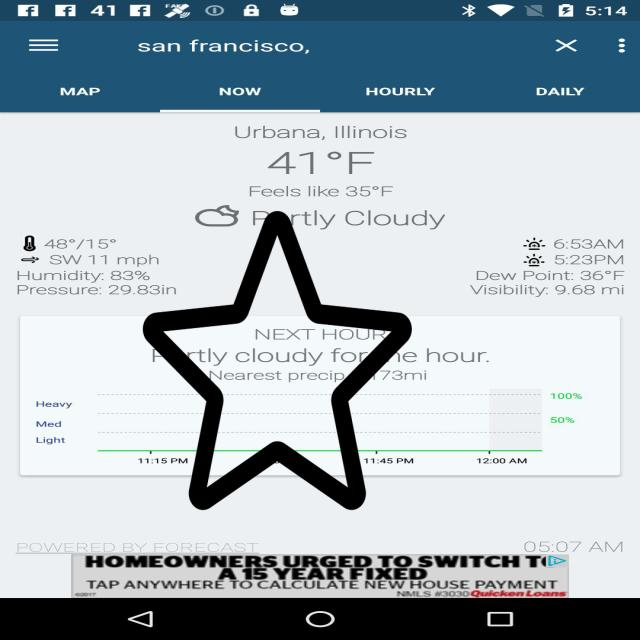forced continuity: (143, 204, 412, 516)
